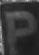Parking: (4, 3, 35, 52)
